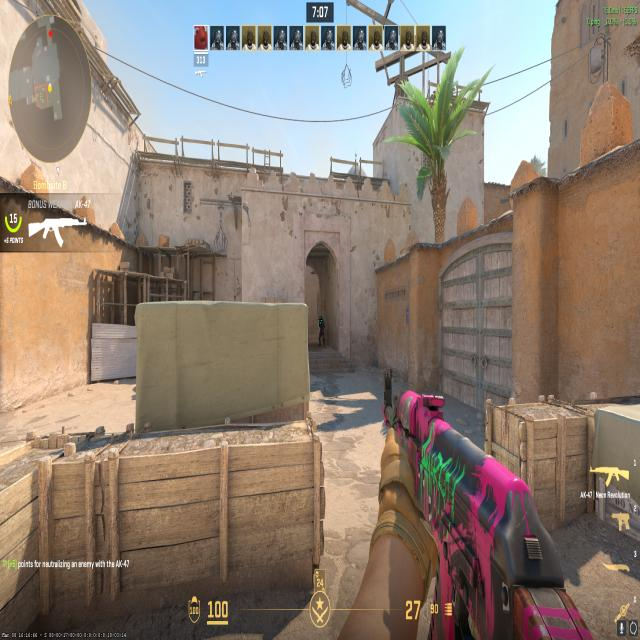ct: (317, 314, 326, 348)
